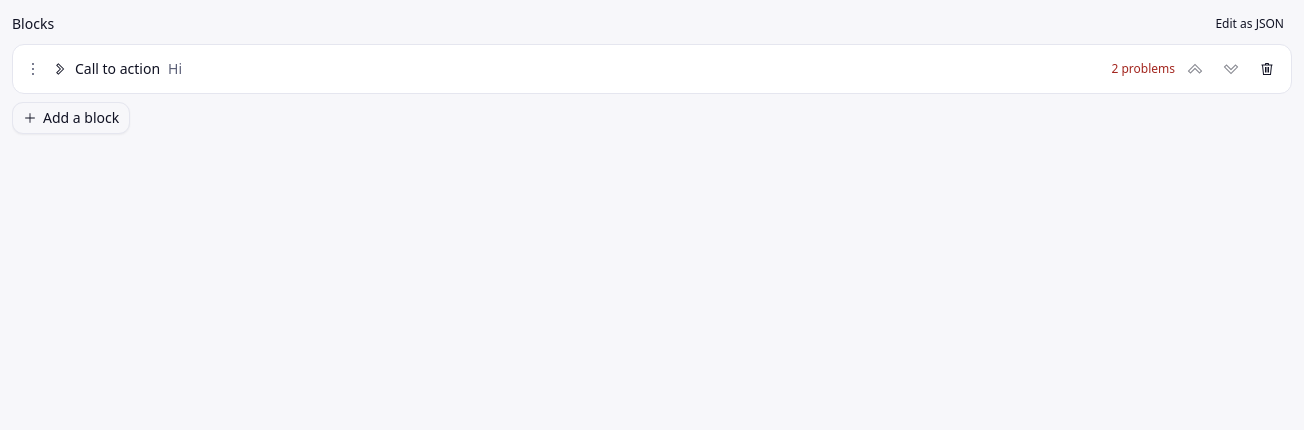
Test case: a page with a reachable block schema › shows what the site would refuse, on the row and on the field
Expected: the text "2 problems" is shown, [1111,61,1175,77]
Click the button "Call to action Hi": (118, 68) [49,55,1107,83]
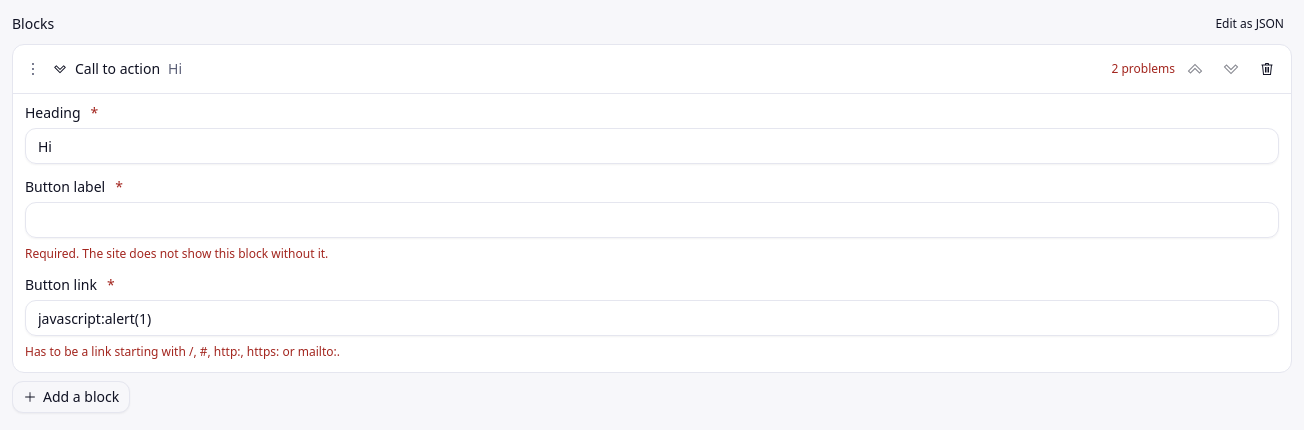
Expected: the text "Has to be a link starting with" is shown, [25,343,340,360]
Expected: the text "Required. The site does not show this block without it." is shown, [25,245,328,262]
